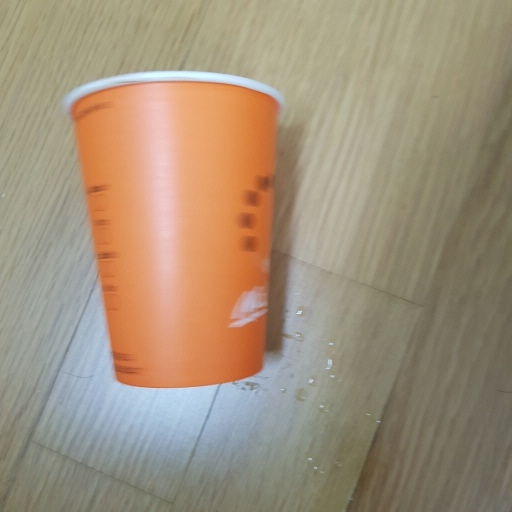Paper_1: (66, 73, 287, 389)
